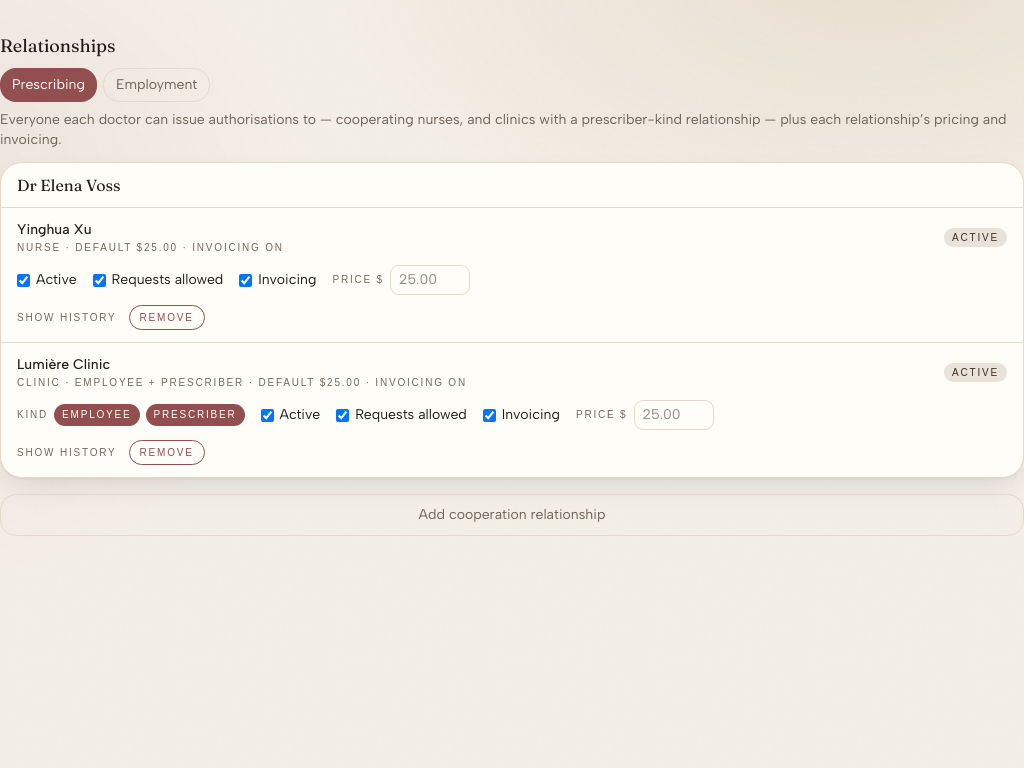
Scenario: Employment view › groups staff by clinic: employee-kind doctors (editable) + member accounts (informational)
Step 1. Click the button "Employment" → (157,85), box x1=103 y1=68 x2=210 y2=102
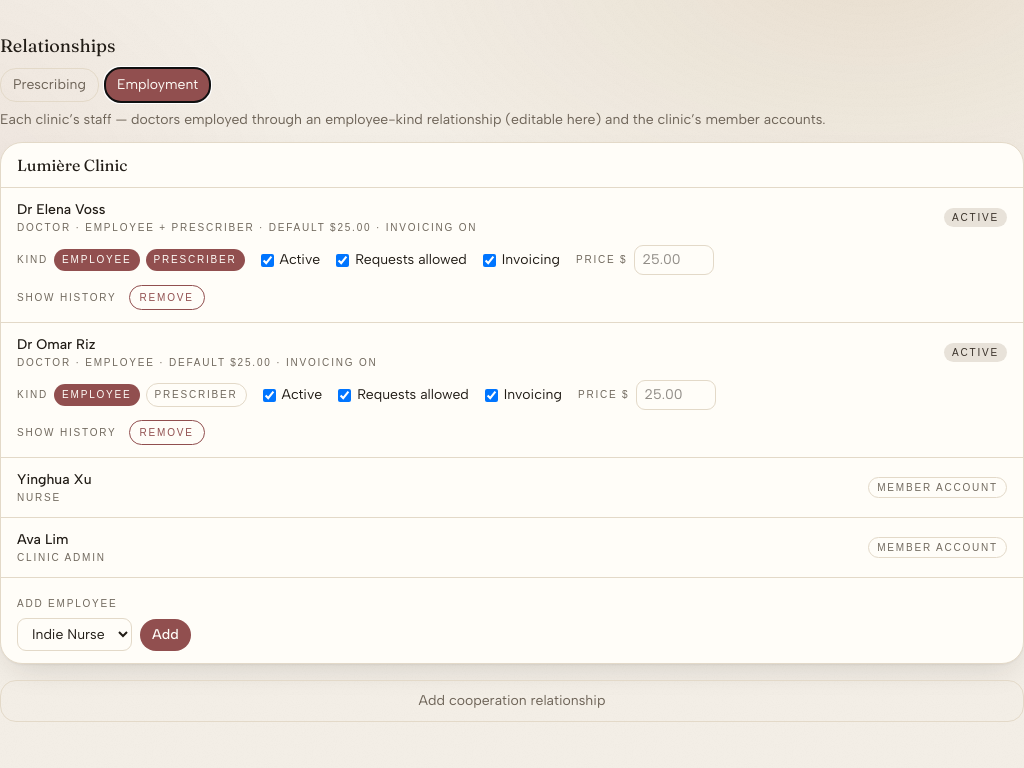
Expected: the text "Dr Omar Riz" is shown, x1=17 y1=336 x2=95 y2=353
Expected: the number of buttons "Employee" is 2, x1=54 y1=249 x2=140 y2=271; x1=54 y1=384 x2=140 y2=406
Expected: the text "Ava Lim" is shown, x1=17 y1=531 x2=68 y2=548
